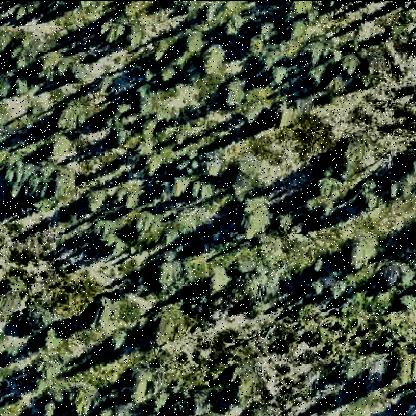tree-top: (228, 193, 272, 241), (298, 41, 342, 85), (342, 232, 380, 274), (38, 161, 76, 203), (3, 157, 38, 201), (122, 361, 160, 401), (152, 303, 188, 345), (232, 264, 268, 304), (317, 146, 351, 188), (127, 212, 163, 250), (221, 150, 259, 186), (217, 75, 251, 111), (34, 51, 70, 85), (61, 379, 95, 415), (56, 96, 88, 132), (94, 16, 128, 48), (192, 147, 226, 177), (87, 295, 116, 330), (147, 253, 178, 285), (20, 307, 51, 338), (5, 41, 33, 75), (87, 218, 117, 249), (30, 357, 61, 386), (199, 46, 228, 74), (388, 344, 410, 380), (170, 170, 194, 200), (80, 190, 104, 219), (37, 398, 62, 416)
